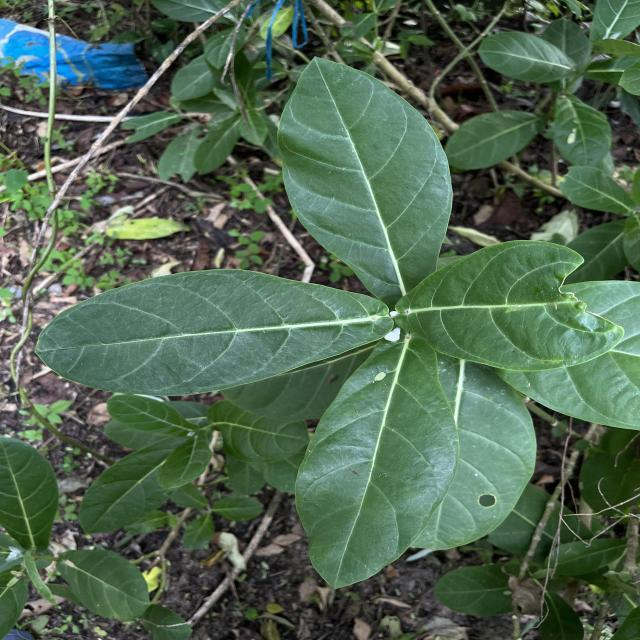Calotropis gigantea: (33, 266, 394, 398), (274, 54, 456, 304), (294, 332, 462, 592), (426, 356, 538, 554), (78, 436, 184, 534), (0, 436, 60, 554), (444, 108, 541, 172), (476, 31, 578, 84), (553, 94, 613, 170)
